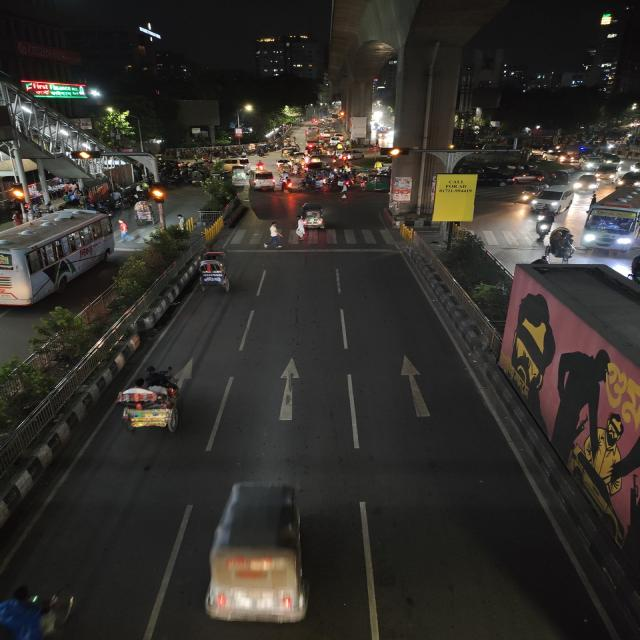bus: (0, 210, 117, 308), (582, 186, 640, 253), (303, 128, 321, 142)
car: (529, 187, 575, 212), (253, 170, 277, 192), (572, 174, 601, 192), (616, 171, 640, 189), (595, 165, 619, 183), (546, 154, 580, 166), (340, 147, 365, 161), (220, 157, 239, 171)
cng: (201, 476, 317, 634), (295, 201, 330, 233), (367, 174, 390, 192), (547, 169, 571, 185)
motorcycle: (532, 206, 558, 238), (282, 175, 295, 192), (254, 160, 267, 172)
pedestrian: (260, 220, 285, 250)
rickshaw: (110, 364, 194, 438), (192, 249, 237, 294), (543, 225, 579, 265), (132, 196, 158, 226), (296, 178, 327, 194), (353, 170, 370, 188)
